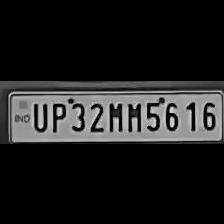1: (182, 97, 198, 131)
2: (86, 96, 106, 132)
3: (66, 97, 86, 131)
5: (142, 97, 162, 131)
6: (160, 97, 180, 131), (198, 97, 218, 130)
M: (122, 96, 142, 132), (104, 98, 124, 132)
P: (46, 98, 66, 132)
U: (28, 98, 48, 132)
